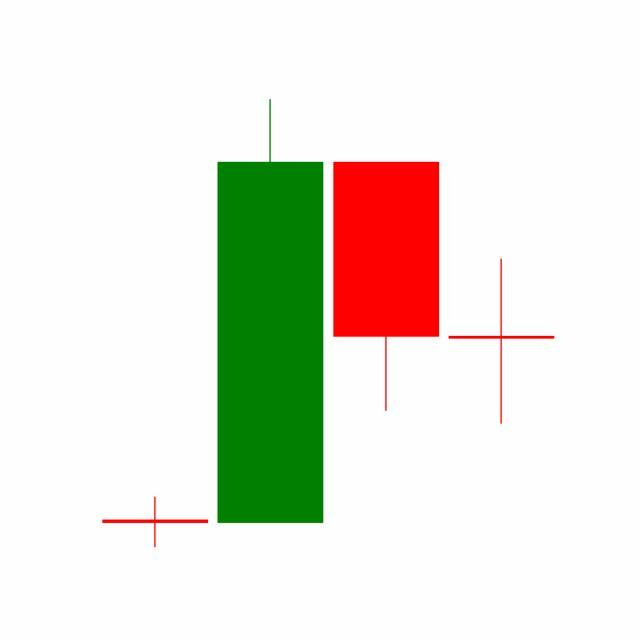Spinning Top: (444, 257, 560, 427)
